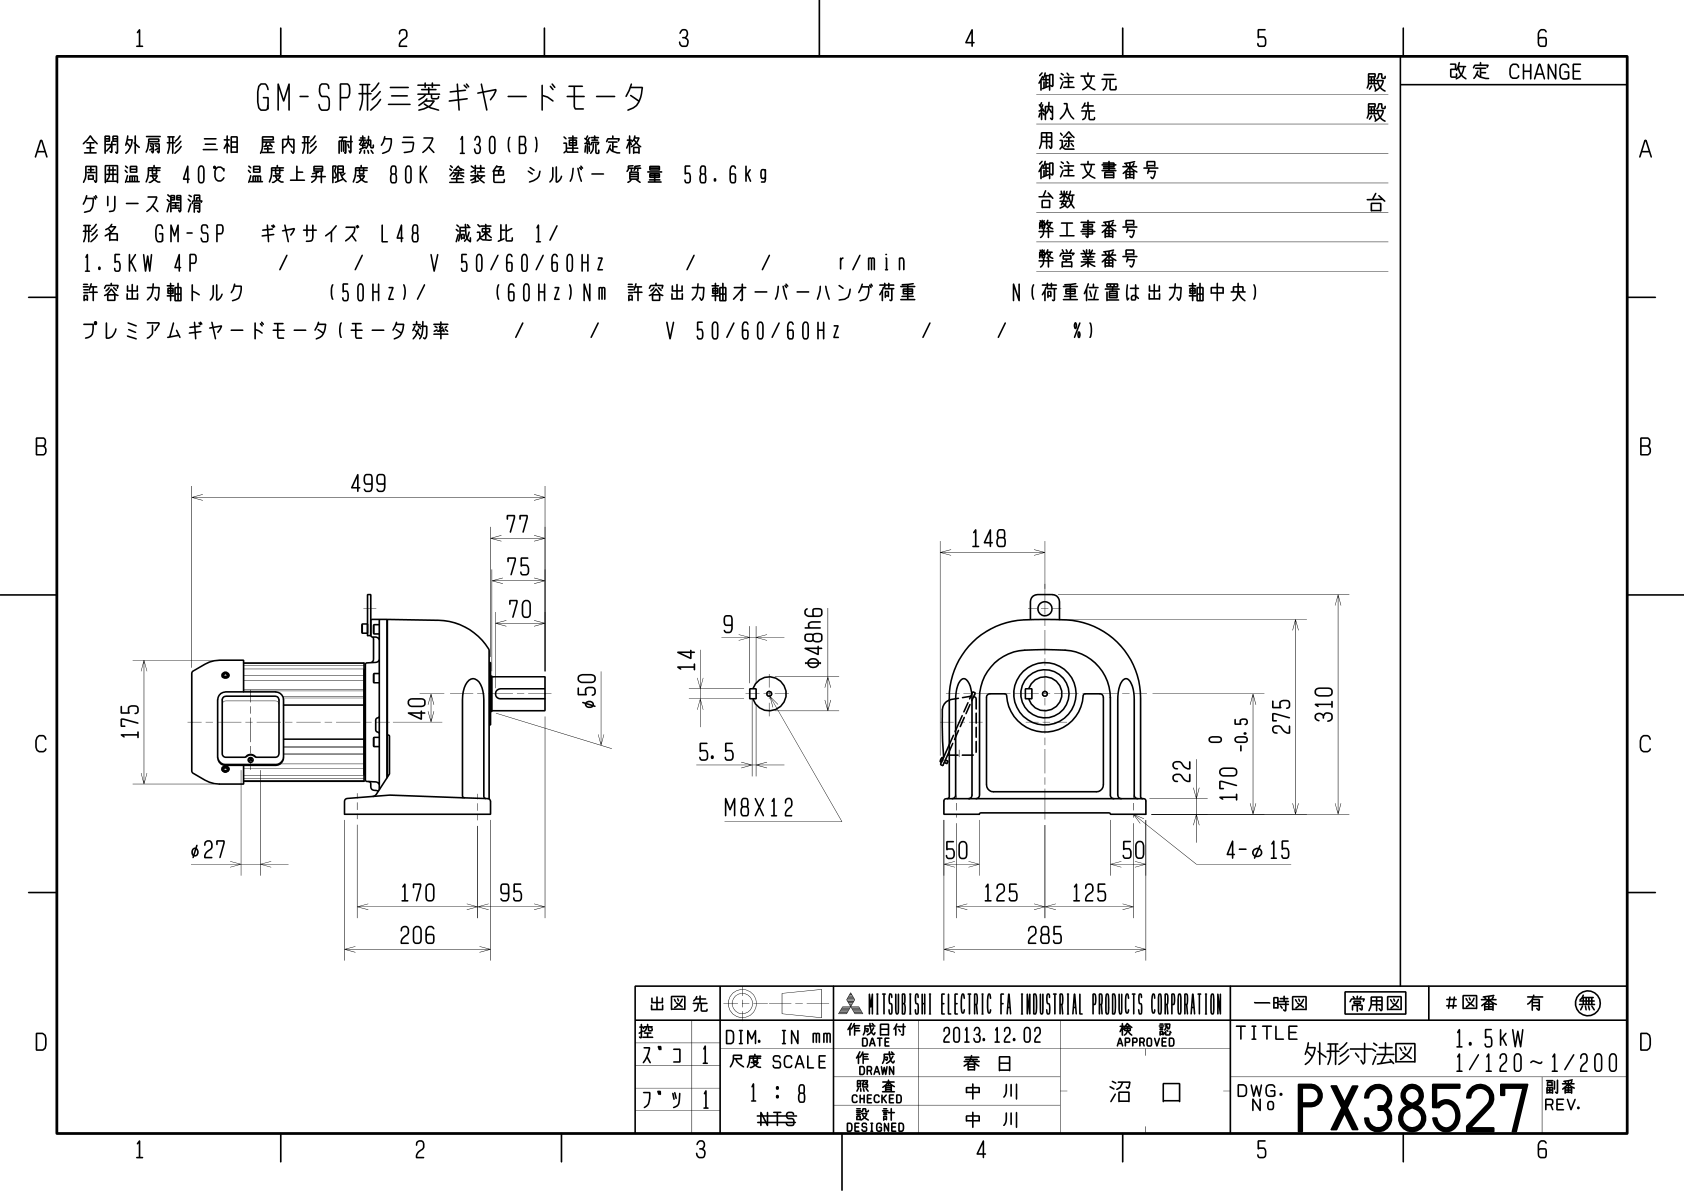GM_SP_屋内_三相_脚: (81, 443, 1381, 965)
